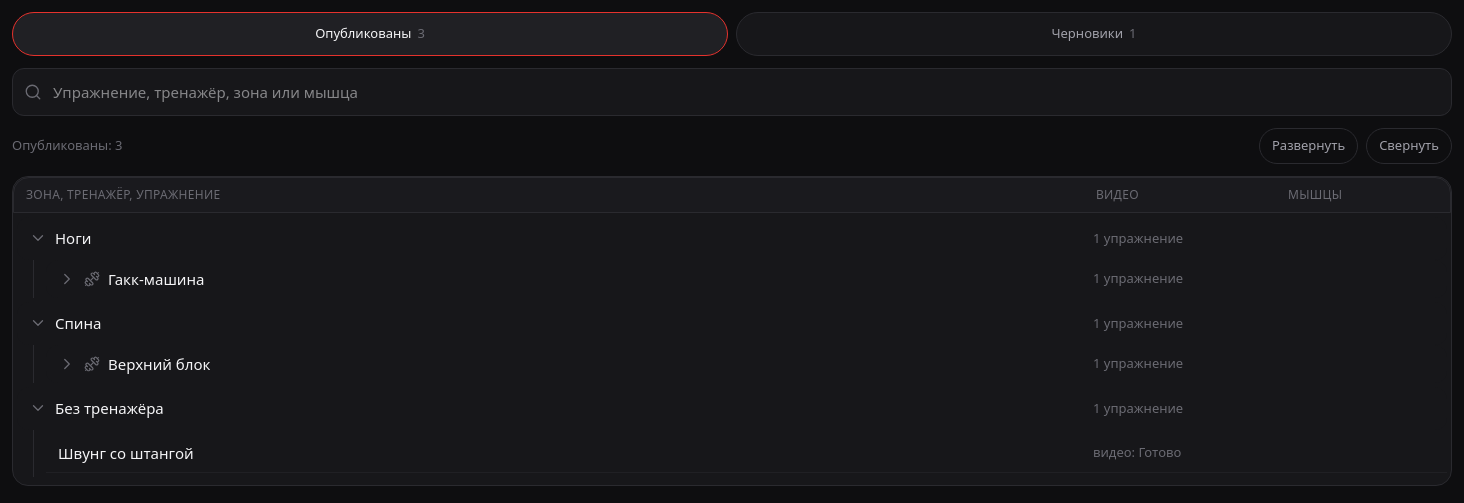
Test case: пустой результат поиска: сообщение и кнопка очистки
The image size is (1464, 503).
Type "гантель" into the search field named "Поиск по упражнениям" at x=732, y=92, box x1=12 y1=68 x2=1452 y2=116
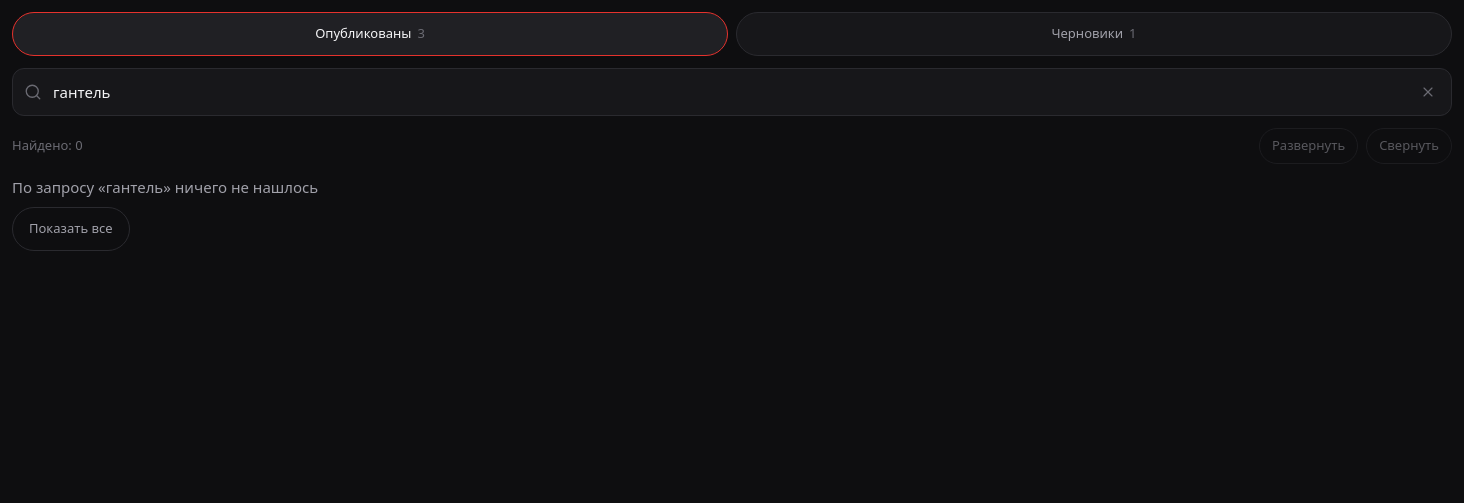
Check: the text "По запросу «гантель» ничего не нашлось" is shown, box x1=12 y1=177 x2=318 y2=197
Click the button "Показать все" at x=71, y=228, box x1=12 y1=206 x2=130 y2=250
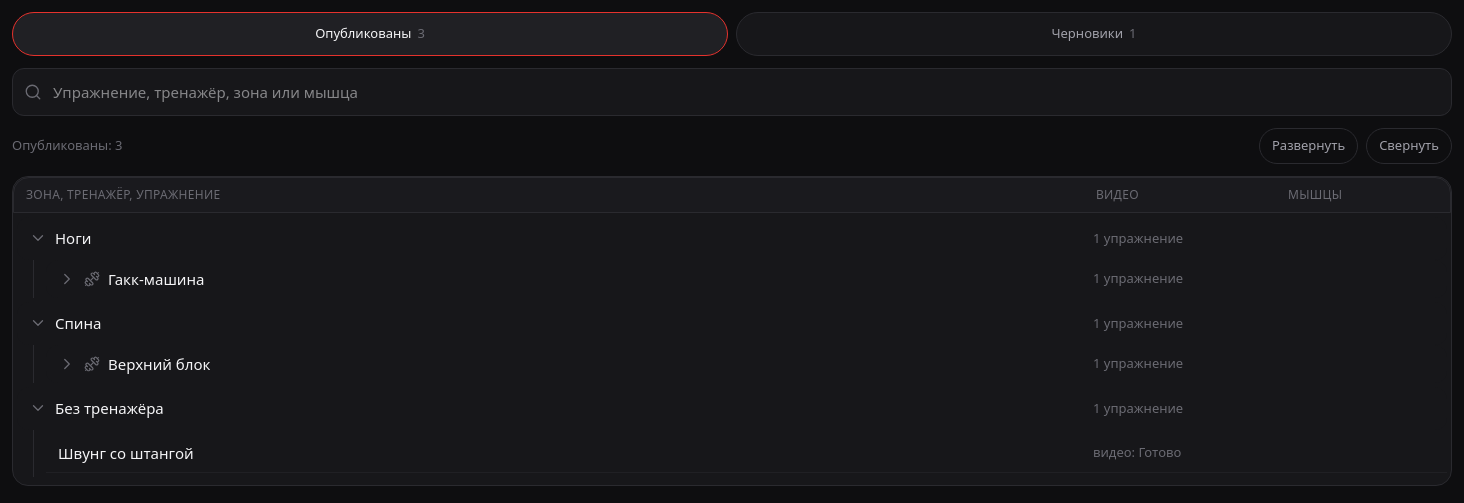
Check: the text "ничего не нашлось" is gone
Check: the button "Ноги 1 упражнение" is shown, box x1=17 y1=217 x2=1447 y2=260
